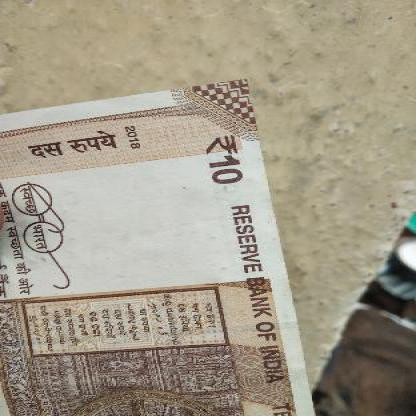New10Back: (0, 78, 294, 415)
